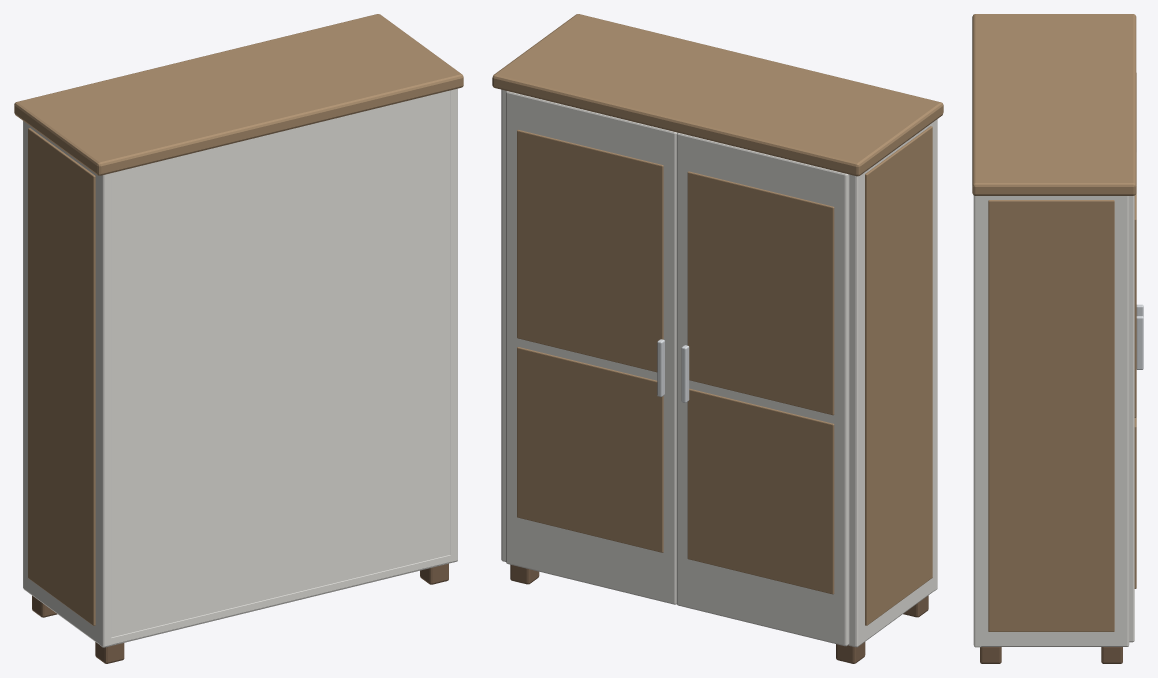
File: SM_CabinetWardrobe.fbx
3 renders of one model, left to right at view 1: azimuth 30°, elevation 25°; view 2: azimuth 150°, elevation 25°; view 3: azimuth 270°, elevation 25°, orthographic. The views are drawn at different scales.
Parts seen in each view (by area): view 1: CabinetWardrobe_Body; view 2: Door_L_Hinge, CabinetWardrobe_Body, Door_R_Hinge; view 3: CabinetWardrobe_Body, Door_R_Hinge.
Part boxes in pixels (<box>): CabinetWardrobe_Body: <box>14,14,463,663</box>; Door_L_Hinge: <box>676,132,849,646</box>; CabinetWardrobe_Body: <box>492,14,943,663</box>; Door_R_Hinge: <box>506,91,676,604</box>; CabinetWardrobe_Body: <box>972,14,1136,663</box>; Door_R_Hinge: <box>1129,152,1143,642</box>.
Size of the model in its own units: 167 by 70.45 by 221.
